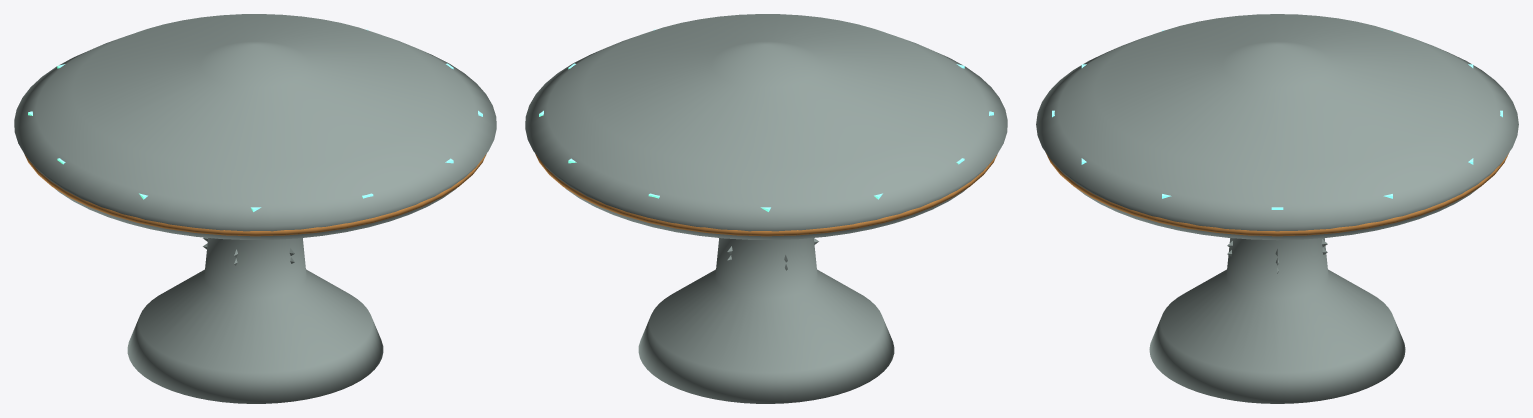
Rendered from blueprint-instrument.glb.
3 renders of one model, left to right at view 1: azimuth 30°, elevation 25°; view 2: azimuth 150°, elevation 25°; view 3: azimuth 270°, elevation 25°, orthographic.
Visible parts, largest first — view 1: InstrumentBody, CalibrationRing; view 2: InstrumentBody, CalibrationRing; view 3: InstrumentBody, CalibrationRing.
Part boxes in pixels (box(x1,y1,x2,y2)): InstrumentBody: box(14, 14, 496, 403); CalibrationRing: box(24, 153, 486, 236); InstrumentBody: box(525, 14, 1007, 403); CalibrationRing: box(535, 153, 997, 236); InstrumentBody: box(1036, 14, 1518, 403); CalibrationRing: box(1045, 152, 1509, 236).
Bounding box in the file's own units: 1.32 × 0.92 × 1.32.
